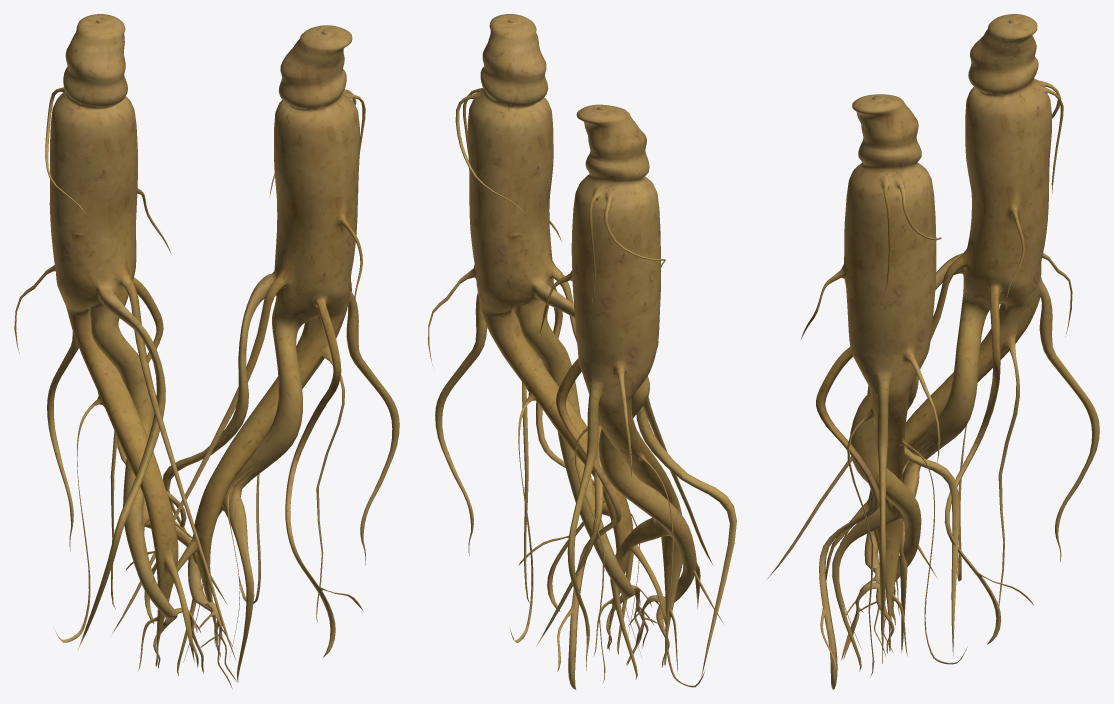
Rendered from ginseng.glb.
3 renders of one model, left to right at view 1: azimuth 30°, elevation 25°; view 2: azimuth 150°, elevation 25°; view 3: azimuth 270°, elevation 25°, orthographic.
Parts seen in each view (by area): view 1: Object_6; view 2: Object_6; view 3: Object_6.
Boxes of the visible parts, box(x1,y1,x2,y2) form: Object_6: box(14, 14, 399, 688); Object_6: box(428, 14, 736, 689); Object_6: box(766, 14, 1099, 689).
Bounding box in the file's own units: 0.1562 × 0.3 × 0.146.
Materials: 1 (1 with a texture image).
